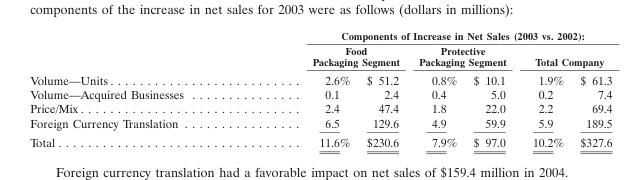table: (29, 28, 611, 148)
table column: (29, 28, 247, 148), (247, 28, 357, 148), (408, 28, 464, 148), (464, 28, 518, 148), (518, 28, 571, 148), (357, 28, 408, 148), (571, 28, 611, 148)
table column header: (29, 28, 611, 86)
table row: (29, 42, 611, 69), (29, 69, 611, 86), (29, 115, 611, 132), (29, 132, 611, 148), (29, 86, 611, 101), (29, 28, 611, 42), (29, 101, 611, 115)
table spanning cell: (29, 28, 247, 86), (247, 28, 611, 42), (247, 42, 408, 69), (408, 42, 518, 69), (518, 42, 611, 69)
